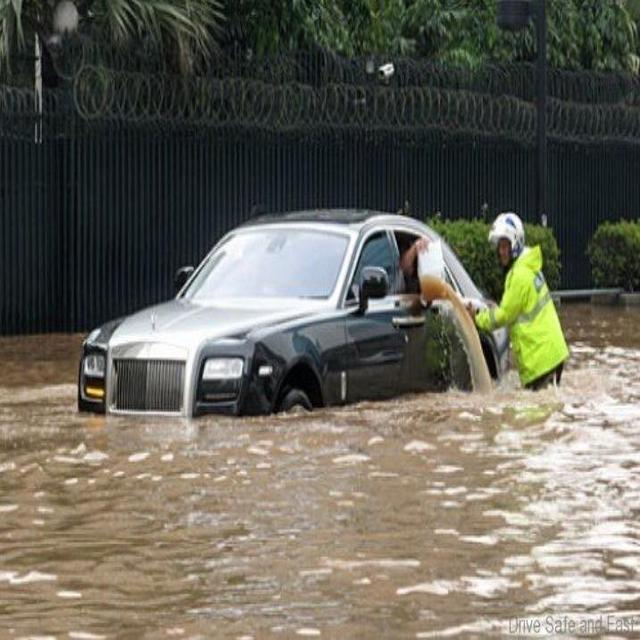Car-RiskLevel2: (70, 192, 514, 423)
Person-RiskLevel2: (470, 203, 576, 395)
